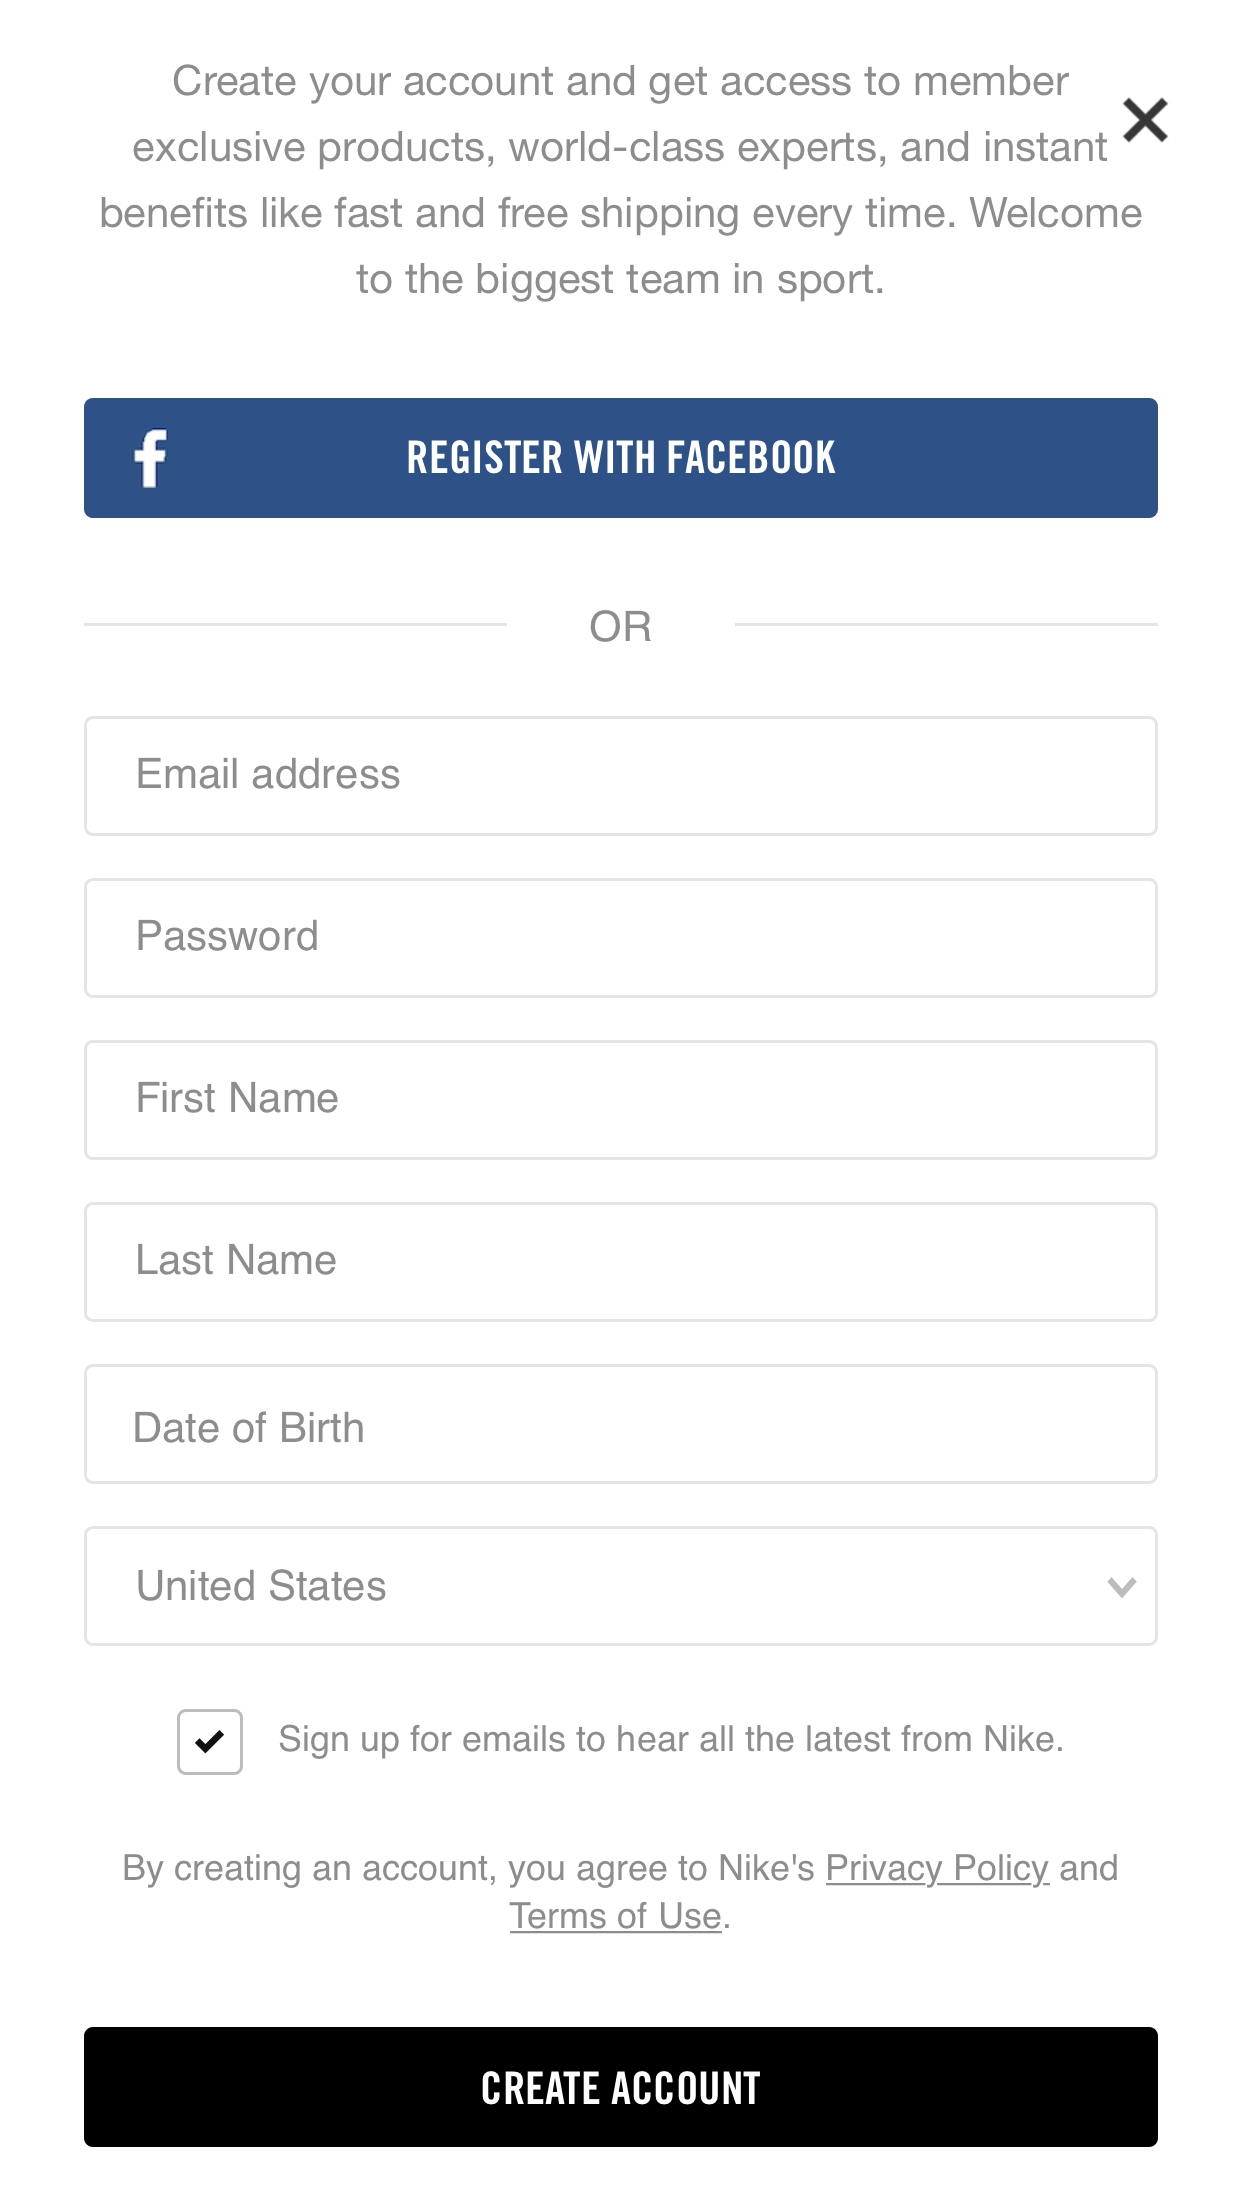CheckedTextView: (177, 1709, 1063, 1776)
EditText: (83, 1526, 1159, 1647), (83, 1363, 1159, 1485), (85, 1040, 1159, 1162), (85, 878, 1159, 999), (85, 1203, 1159, 1322), (85, 717, 1159, 837)
Icon: (1122, 99, 1168, 146), (1107, 1577, 1137, 1598)
Text: (102, 64, 1143, 303), (124, 1855, 1118, 1935), (281, 1724, 1062, 1761), (140, 758, 400, 790), (140, 1570, 387, 1601), (136, 1410, 364, 1444), (140, 1081, 340, 1115), (138, 1244, 337, 1275), (140, 919, 318, 952), (591, 610, 652, 643)
TextButton: (83, 399, 1159, 519), (85, 2028, 1159, 2147)
